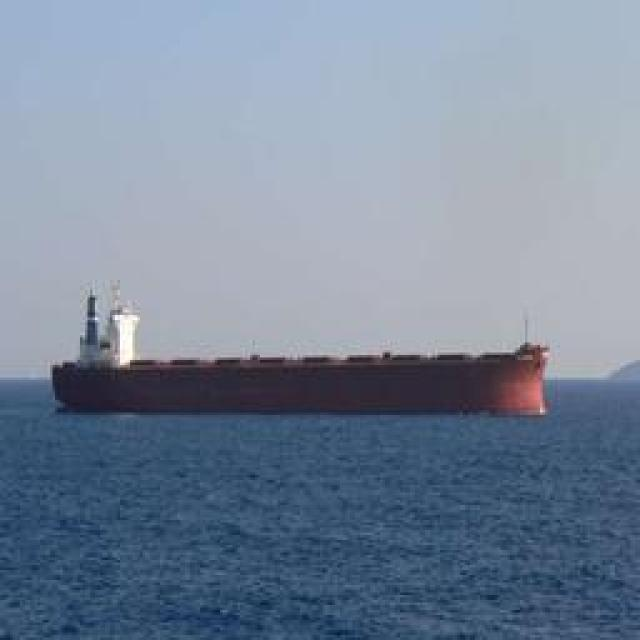CIV_Ship: (50, 342, 545, 416)
